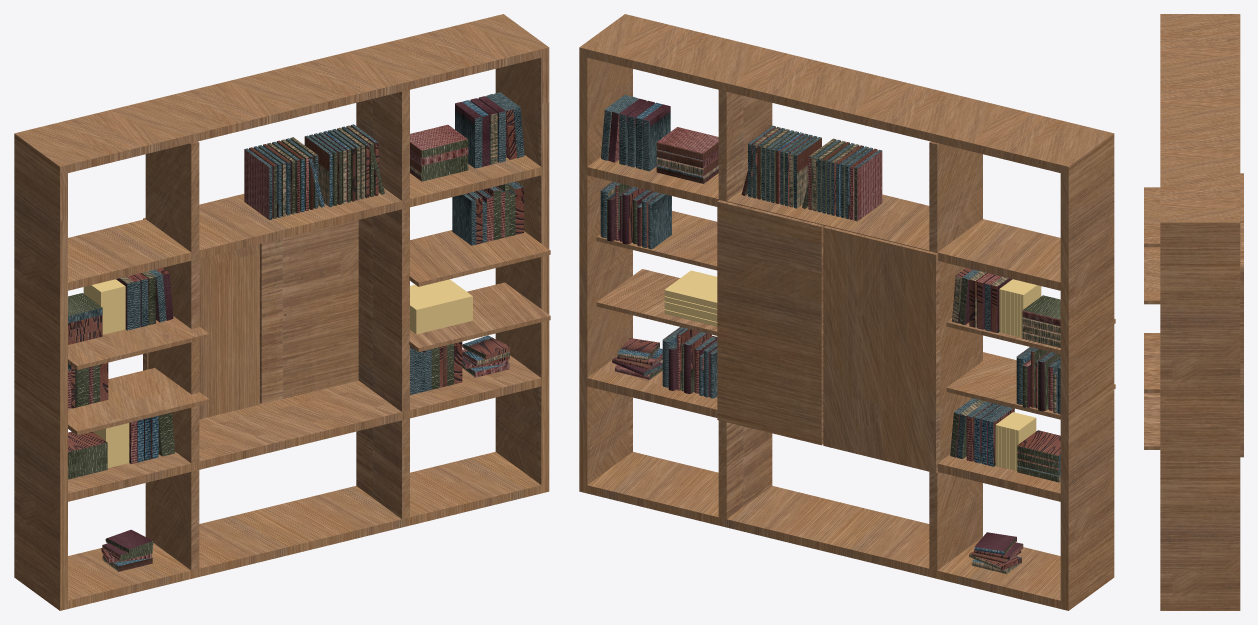
The model's file is liibrerofinal.fbx.
3 views of the same model, side by side, from view 1: azimuth 30°, elevation 25°; view 2: azimuth 150°, elevation 25°; view 3: azimuth 270°, elevation 25° (orthographic). The views are drawn at different scales.
Visible parts, largest first — view 1: books_obj_70; view 2: books_obj_70; view 3: books_obj_70.
Part boxes in pixels (x1,y1,x2,y2): books_obj_70: [14, 14, 550, 610]; books_obj_70: [579, 14, 1115, 610]; books_obj_70: [1144, 14, 1243, 610].
Size of the model in its own units: 9728 by 8438 by 1965.
